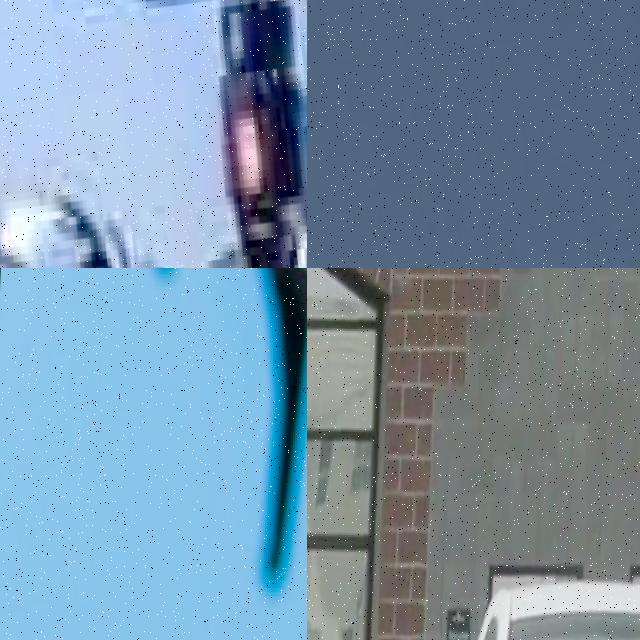0: (307, 0, 640, 268)
drone: (0, 0, 307, 268)
